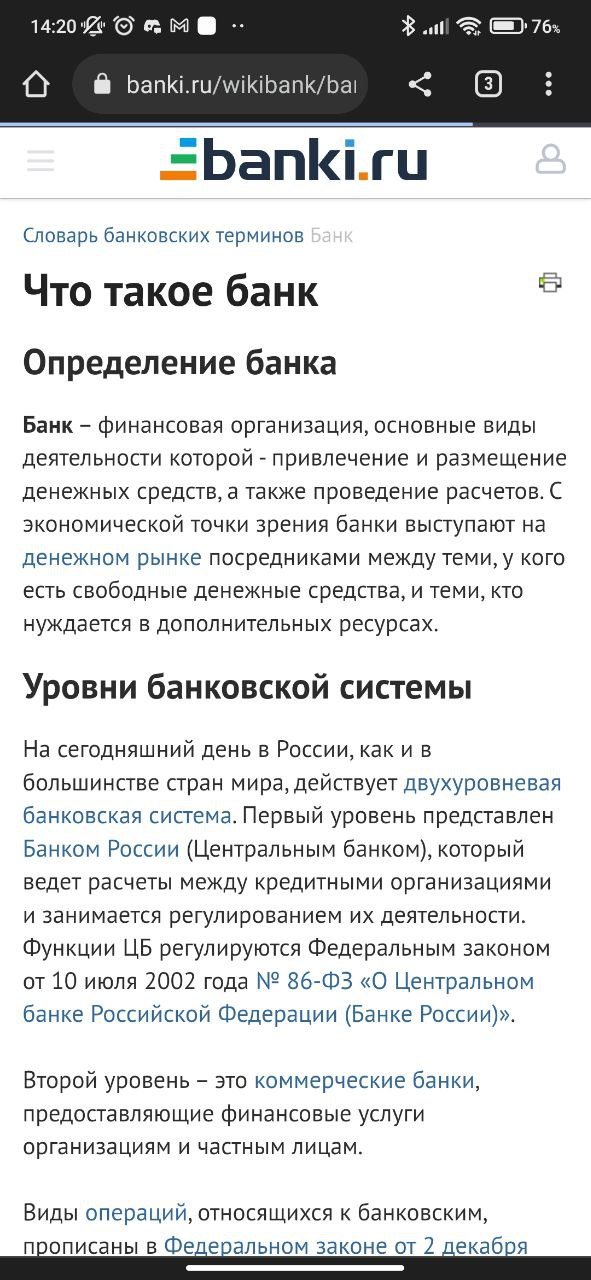burger_menu: (22, 145, 55, 173)
